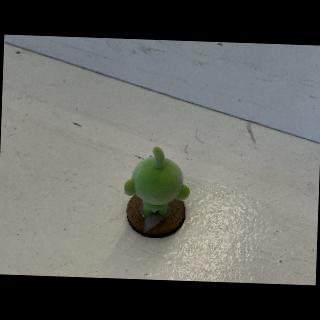teletubby: (124, 147, 190, 216)
